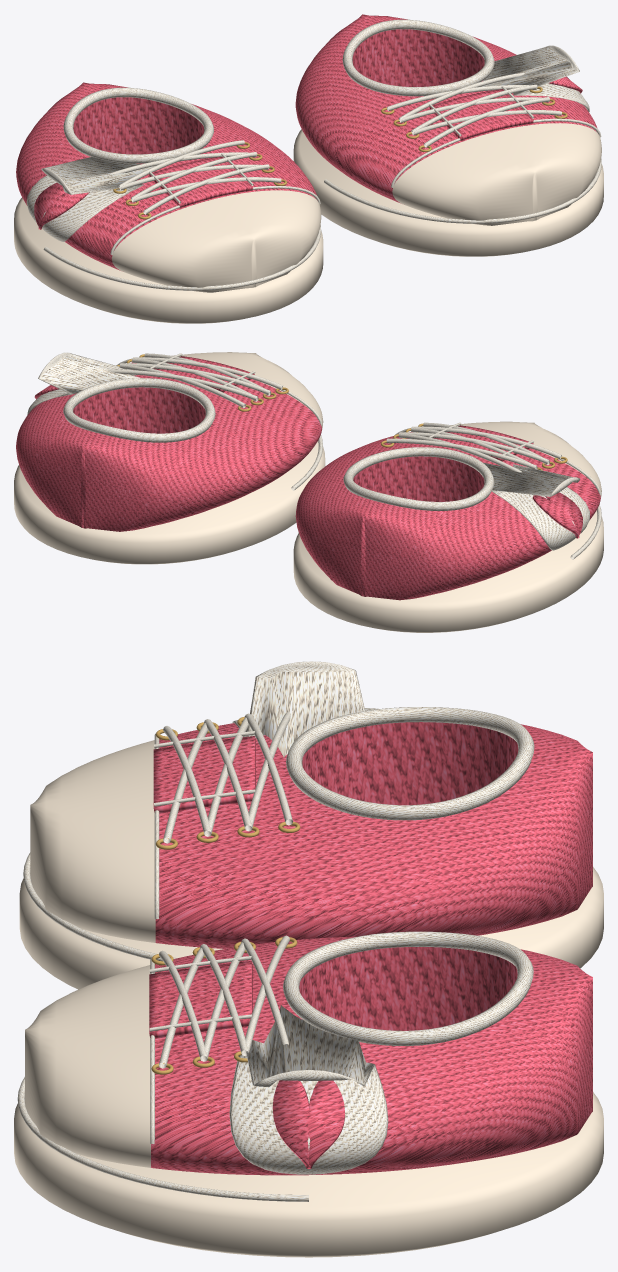
File: restart_shoes_heart_bear.glb
The picture shows the model from 3 angles, top to bottom: view 1: azimuth 30°, elevation 25°; view 2: azimuth 150°, elevation 25°; view 3: azimuth 270°, elevation 25°; orthographic projection. The views are drawn at different scales.
Visible parts, largest first — view 1: Calzado · Left · Zapatilla cosida completa, Calzado · Right · Zapatilla cosida completa; view 2: Calzado · Left · Zapatilla cosida completa, Calzado · Right · Zapatilla cosida completa; view 3: Calzado · Left · Zapatilla cosida completa, Calzado · Right · Zapatilla cosida completa.
Boxes of the visible parts, x1,y1,x2,y2 form: Calzado · Left · Zapatilla cosida completa: (293,14,603,256); Calzado · Right · Zapatilla cosida completa: (14,82,323,323); Calzado · Left · Zapatilla cosida completa: (14,352,325,564); Calzado · Right · Zapatilla cosida completa: (293,421,603,632); Calzado · Left · Zapatilla cosida completa: (14,931,603,1257); Calzado · Right · Zapatilla cosida completa: (19,661,603,989).
Bounding box in the file's own units: 0.5705 × 0.1196 × 0.3267.
Materials: 4 (2 with a texture image).
